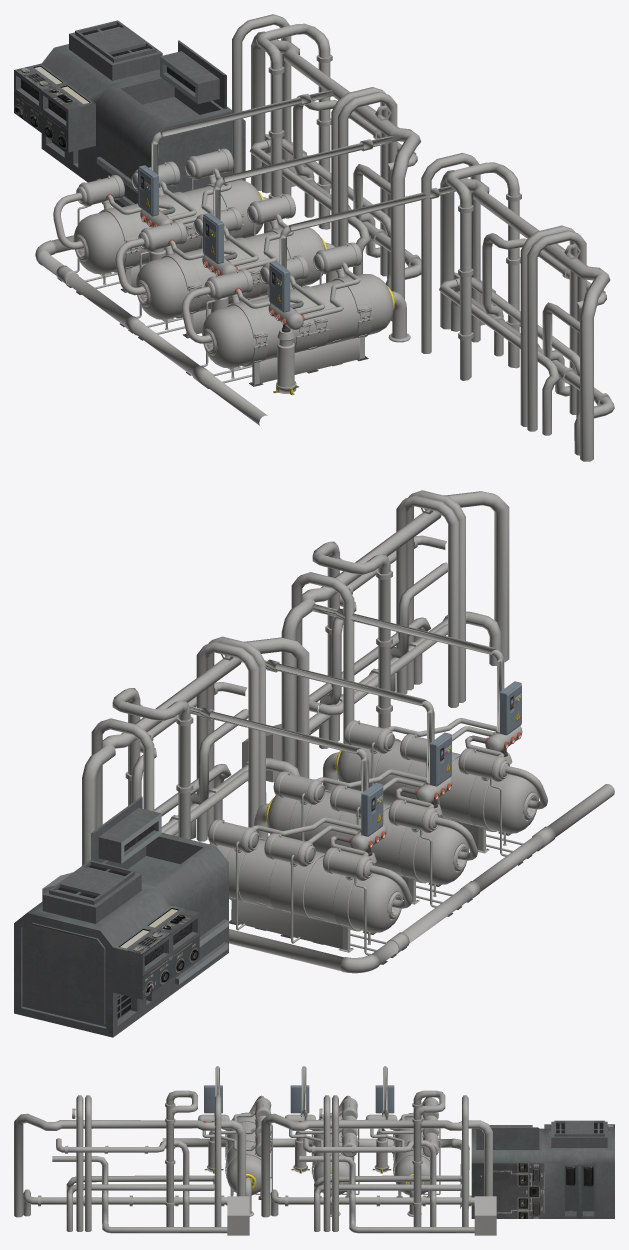
The model's file is Factory.glb.
3 views of the same model, one above another, from view 1: azimuth 30°, elevation 25°; view 2: azimuth 150°, elevation 25°; view 3: azimuth 270°, elevation 25° (orthographic). The views are drawn at different scales.
Visible parts, largest first — view 1: SM_obj_PipeWall_01 - Default_0.001, Object_4, SM_obj_PipeWall_01 - Default_0, SM_PipeEngine.mo_PipeEngine_M1_0.003, SM_PipeEngine.mo_PipeEngine_M1_0.001, SM_PipeEngine.mo_PipeEngine_M1_0.002, Cube, Duvar panosu_green_0.002, Duvar panosu_green_0, Duvar panosu_green_0.001; view 2: Object_4, SM_obj_PipeWall_01 - Default_0.001, SM_obj_PipeWall_01 - Default_0, SM_PipeEngine.mo_PipeEngine_M1_0.002, SM_PipeEngine.mo_PipeEngine_M1_0.003, SM_PipeEngine.mo_PipeEngine_M1_0.001, Cube, Duvar panosu_green_0, Duvar panosu_green_0.001, Duvar panosu_green_0.002; view 3: SM_obj_PipeWall_01 - Default_0.001, SM_obj_PipeWall_01 - Default_0, Object_4, SM_PipeEngine.mo_PipeEngine_M1_0.003, SM_PipeEngine.mo_PipeEngine_M1_0.002, SM_PipeEngine.mo_PipeEngine_M1_0.001, Cube, Duvar panosu_green_0, Duvar panosu_green_0.001, Duvar panosu_green_0.002.
Boxes of the visible parts, <box> form: SM_obj_PipeWall_01 - Default_0.001: <box>421,153,614,461</box>; Object_4: <box>14,20,245,207</box>; SM_obj_PipeWall_01 - Default_0: <box>232,14,421,321</box>; SM_PipeEngine.mo_PipeEngine_M1_0.003: <box>181,186,455,395</box>; SM_PipeEngine.mo_PipeEngine_M1_0.001: <box>115,134,400,340</box>; SM_PipeEngine.mo_PipeEngine_M1_0.002: <box>53,89,333,294</box>; Cube: <box>35,235,267,425</box>; Duvar panosu_green_0.002: <box>269,261,290,312</box>; Duvar panosu_green_0: <box>138,165,158,216</box>; Duvar panosu_green_0.001: <box>203,213,223,263</box>; Object_4: <box>14,796,228,1037</box>; SM_obj_PipeWall_01 - Default_0.001: <box>242,490,509,782</box>; SM_obj_PipeWall_01 - Default_0: <box>42,636,309,901</box>; SM_PipeEngine.mo_PipeEngine_M1_0.002: <box>189,706,412,964</box>; SM_PipeEngine.mo_PipeEngine_M1_0.003: <box>312,604,547,865</box>; SM_PipeEngine.mo_PipeEngine_M1_0.001: <box>241,659,477,916</box>; Cube: <box>229,784,614,973</box>; Duvar panosu_green_0: <box>361,782,383,836</box>; Duvar panosu_green_0.001: <box>430,732,451,786</box>; Duvar panosu_green_0.002: <box>500,681,521,735</box>; SM_obj_PipeWall_01 - Default_0.001: <box>14,1090,249,1235</box>; SM_obj_PipeWall_01 - Default_0: <box>261,1090,496,1235</box>; Object_4: <box>471,1120,614,1218</box>; SM_PipeEngine.mo_PipeEngine_M1_0.003: <box>198,1066,272,1216</box>; SM_PipeEngine.mo_PipeEngine_M1_0.002: <box>365,1066,440,1216</box>; SM_PipeEngine.mo_PipeEngine_M1_0.001: <box>285,1066,359,1216</box>; Cube: <box>162,1138,469,1208</box>; Duvar panosu_green_0: <box>375,1085,394,1113</box>; Duvar panosu_green_0.001: <box>290,1085,309,1113</box>; Duvar panosu_green_0.002: <box>204,1085,222,1113</box>.
Bounding box in the file's own units: 18.92 × 12.01 × 51.82.
11 materials, 8 textured.
